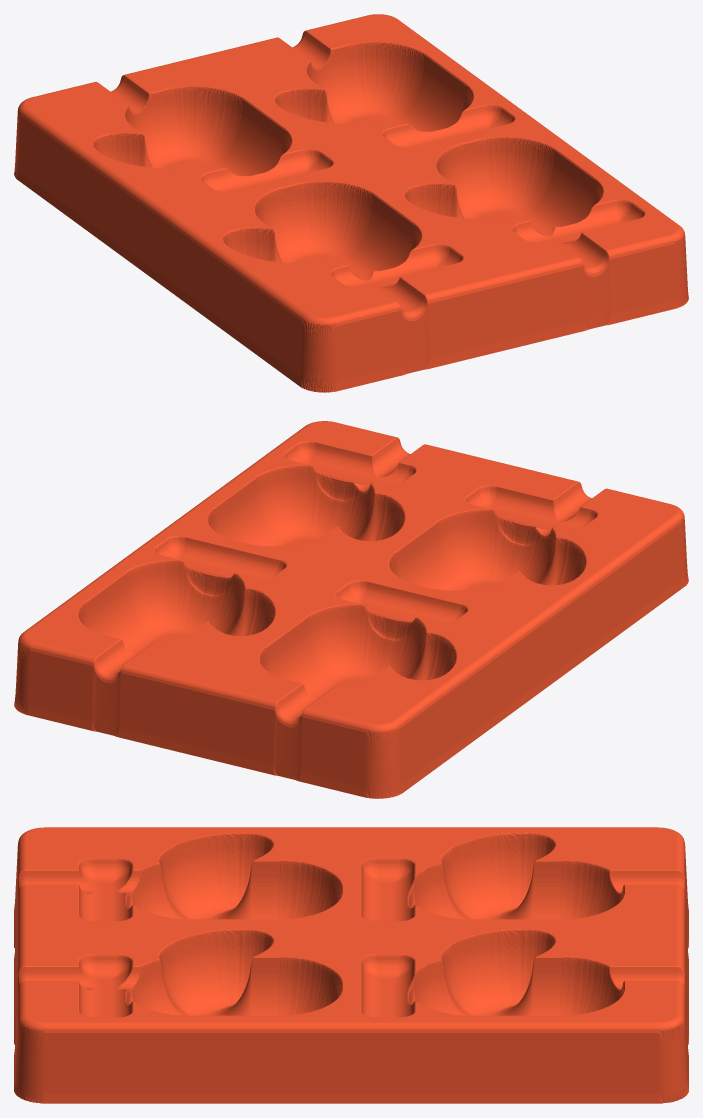
File: mold.glb
3 renders of one model, top to bottom at view 1: azimuth 30°, elevation 25°; view 2: azimuth 150°, elevation 25°; view 3: azimuth 270°, elevation 25°, orthographic. The views are drawn at different scales.
Parts seen in each view (by area): view 1: geometry_0; view 2: geometry_0; view 3: geometry_0.
Part boxes in pixels (x1,y1,x2,y2): geometry_0: (14, 14, 688, 392); geometry_0: (14, 421, 688, 798); geometry_0: (14, 827, 688, 1103).
Size of the model in its own units: 0.141 by 0.0245 by 0.1968.
